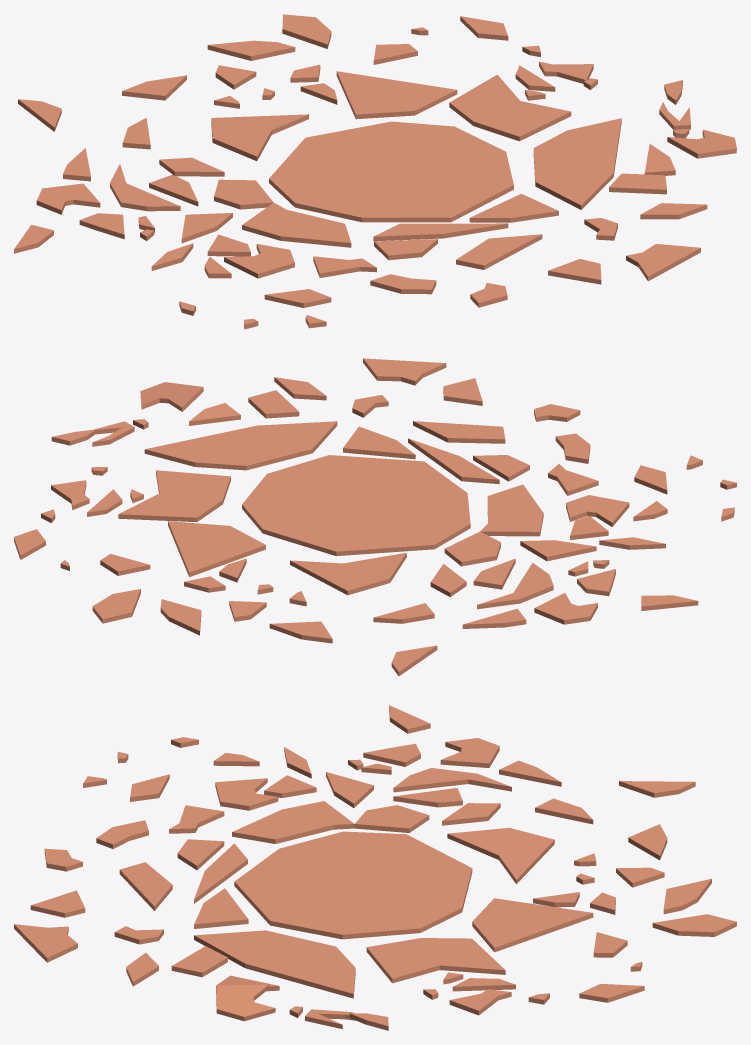
The model's file is bedrockplains_terrain1.fbx.
3 renders of one model, top to bottom at view 1: azimuth 30°, elevation 25°; view 2: azimuth 150°, elevation 25°; view 3: azimuth 270°, elevation 25°, orthographic. The views are drawn at different scales.
Visible parts, largest first — view 1: Plane.133, Plane.126, Plane.132, Plane.130, Plane.129, Plane.128, Plane.124, Plane.123, Plane.125, Plane.090, Plane.110, Plane.111 (+30 smaller); view 2: Plane.133, Plane.126, Plane.132, Plane.130, Plane.129, Plane.128, Plane.123, Plane.090, Plane.124, Plane.125, Plane.111, Plane.110 (+30 smaller); view 3: Plane.133, Plane.126, Plane.132, Plane.130, Plane.129, Plane.128, Plane.085, Plane.111, Plane.110, Plane.090, Plane.123, Plane.125 (+29 smaller).
Part boxes in pixels (bbox=[...]): Plane.133: bbox=[269, 121, 513, 222]; Plane.126: bbox=[533, 118, 621, 209]; Plane.132: bbox=[214, 179, 351, 247]; Plane.130: bbox=[449, 74, 571, 141]; Plane.129: bbox=[336, 71, 457, 119]; Plane.128: bbox=[211, 114, 309, 160]; Plane.124: bbox=[373, 223, 508, 241]; Plane.123: bbox=[456, 234, 542, 269]; Plane.125: bbox=[469, 194, 558, 222]; Plane.090: bbox=[626, 244, 700, 281]; Plane.110: bbox=[224, 244, 294, 278]; Plane.111: bbox=[110, 164, 180, 211]; Plane.133: bbox=[242, 455, 470, 556]; Plane.126: bbox=[144, 421, 337, 470]; Plane.132: bbox=[444, 484, 543, 566]; Plane.130: bbox=[118, 470, 230, 522]; Plane.129: bbox=[168, 521, 265, 576]; Plane.128: bbox=[290, 552, 406, 595]; Plane.123: bbox=[413, 421, 505, 443]; Plane.090: bbox=[363, 358, 446, 385]; Plane.124: bbox=[408, 438, 499, 484]; Plane.125: bbox=[343, 426, 415, 459]; Plane.111: bbox=[477, 562, 553, 609]; Plane.110: bbox=[566, 495, 629, 526]; Plane.133: bbox=[234, 831, 472, 939]; Plane.126: bbox=[194, 930, 355, 998]; Plane.132: bbox=[232, 801, 429, 843]; Plane.130: bbox=[366, 938, 505, 983]; Plane.129: bbox=[472, 898, 593, 952]; Plane.128: bbox=[447, 827, 554, 883]; Plane.085: bbox=[216, 984, 275, 1021]; Plane.111: bbox=[393, 768, 511, 792]; Plane.110: bbox=[215, 778, 278, 810]; Plane.090: bbox=[14, 924, 77, 962]; Plane.123: bbox=[119, 862, 172, 910]; Plane.125: bbox=[194, 888, 248, 928].
Size of the model in its own units: 613 by 15.88 by 572.
